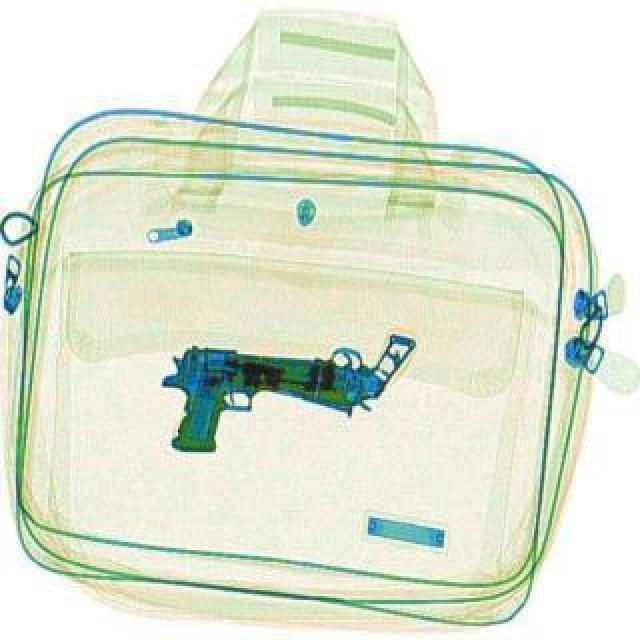gun: (220, 292, 416, 424), (152, 342, 350, 464)
